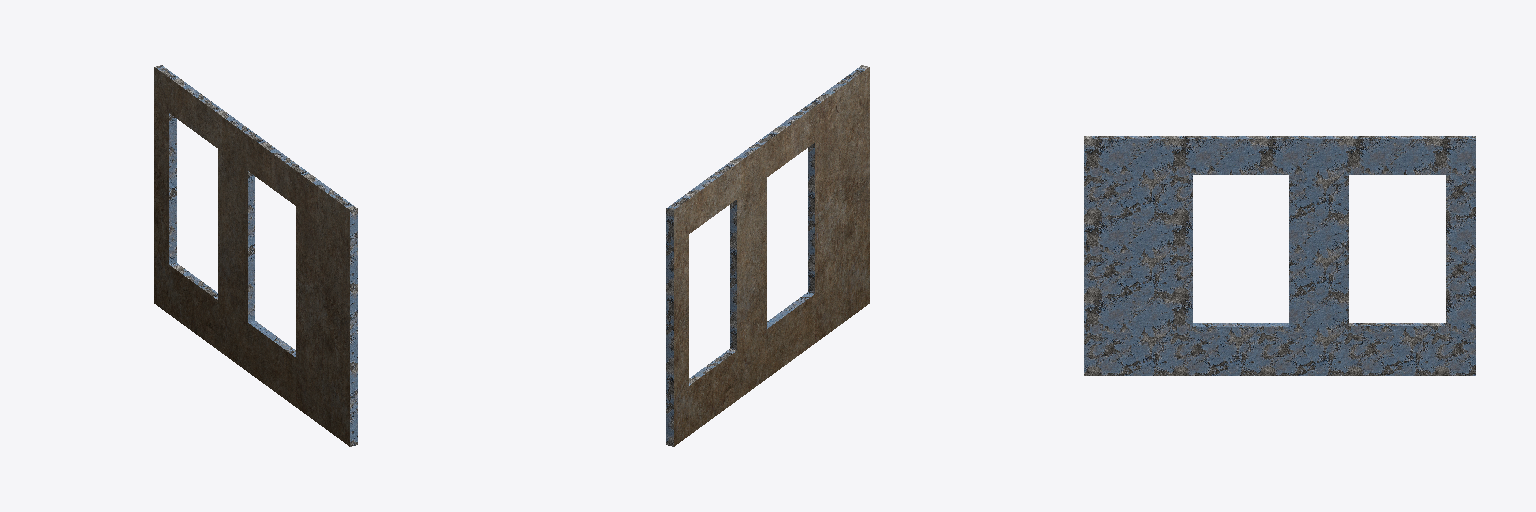
3 views of the same model, side by side, from view 1: azimuth 30°, elevation 25°; view 2: azimuth 150°, elevation 25°; view 3: azimuth 270°, elevation 25° (orthographic).
Parts seen in each view (by area): view 1: Wall double window; view 2: Wall double window; view 3: Wall double window.
Boxes of the visible parts, <box> form: Wall double window: <box>154,65,357,446</box>; Wall double window: <box>666,65,869,446</box>; Wall double window: <box>1084,136,1475,375</box>.
Size of the model in its own units: 0.1 by 3 by 4.5.
2 materials, 2 textured.